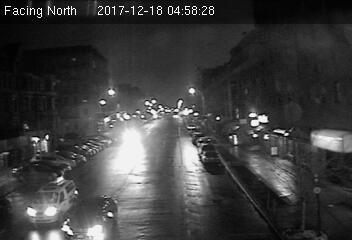car: (27, 175, 78, 225), (61, 195, 116, 240), (201, 151, 219, 163)
